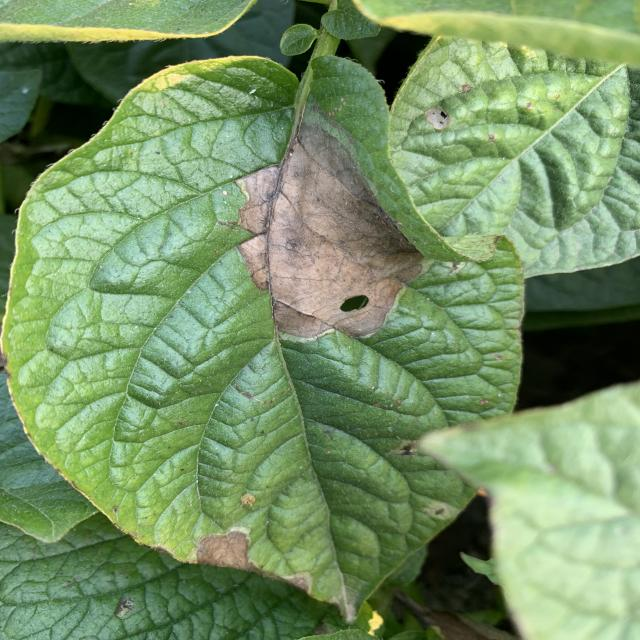lateblight: (263, 124, 423, 338), (195, 526, 310, 592), (237, 166, 280, 235), (238, 235, 268, 291)
